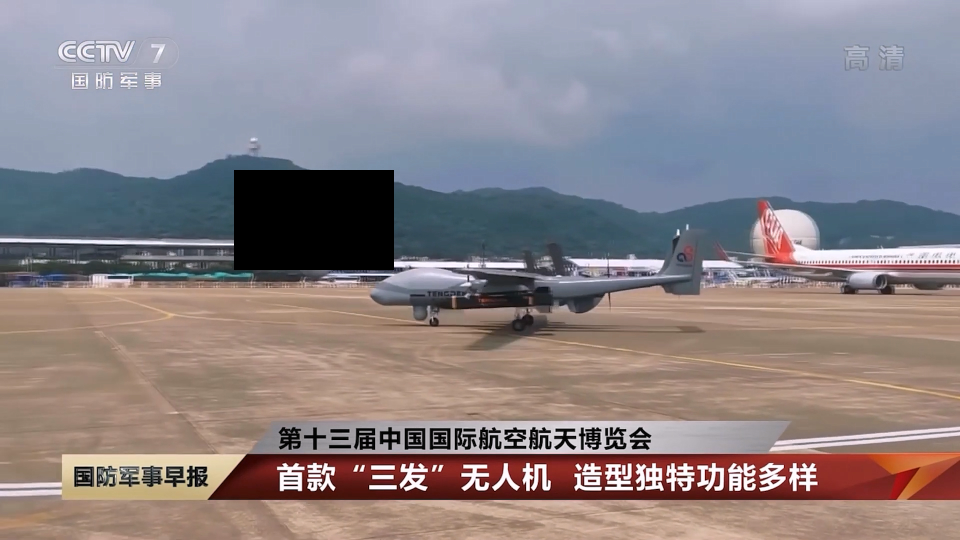airplane: (716, 199, 960, 295)
military drone: (369, 223, 709, 330)
